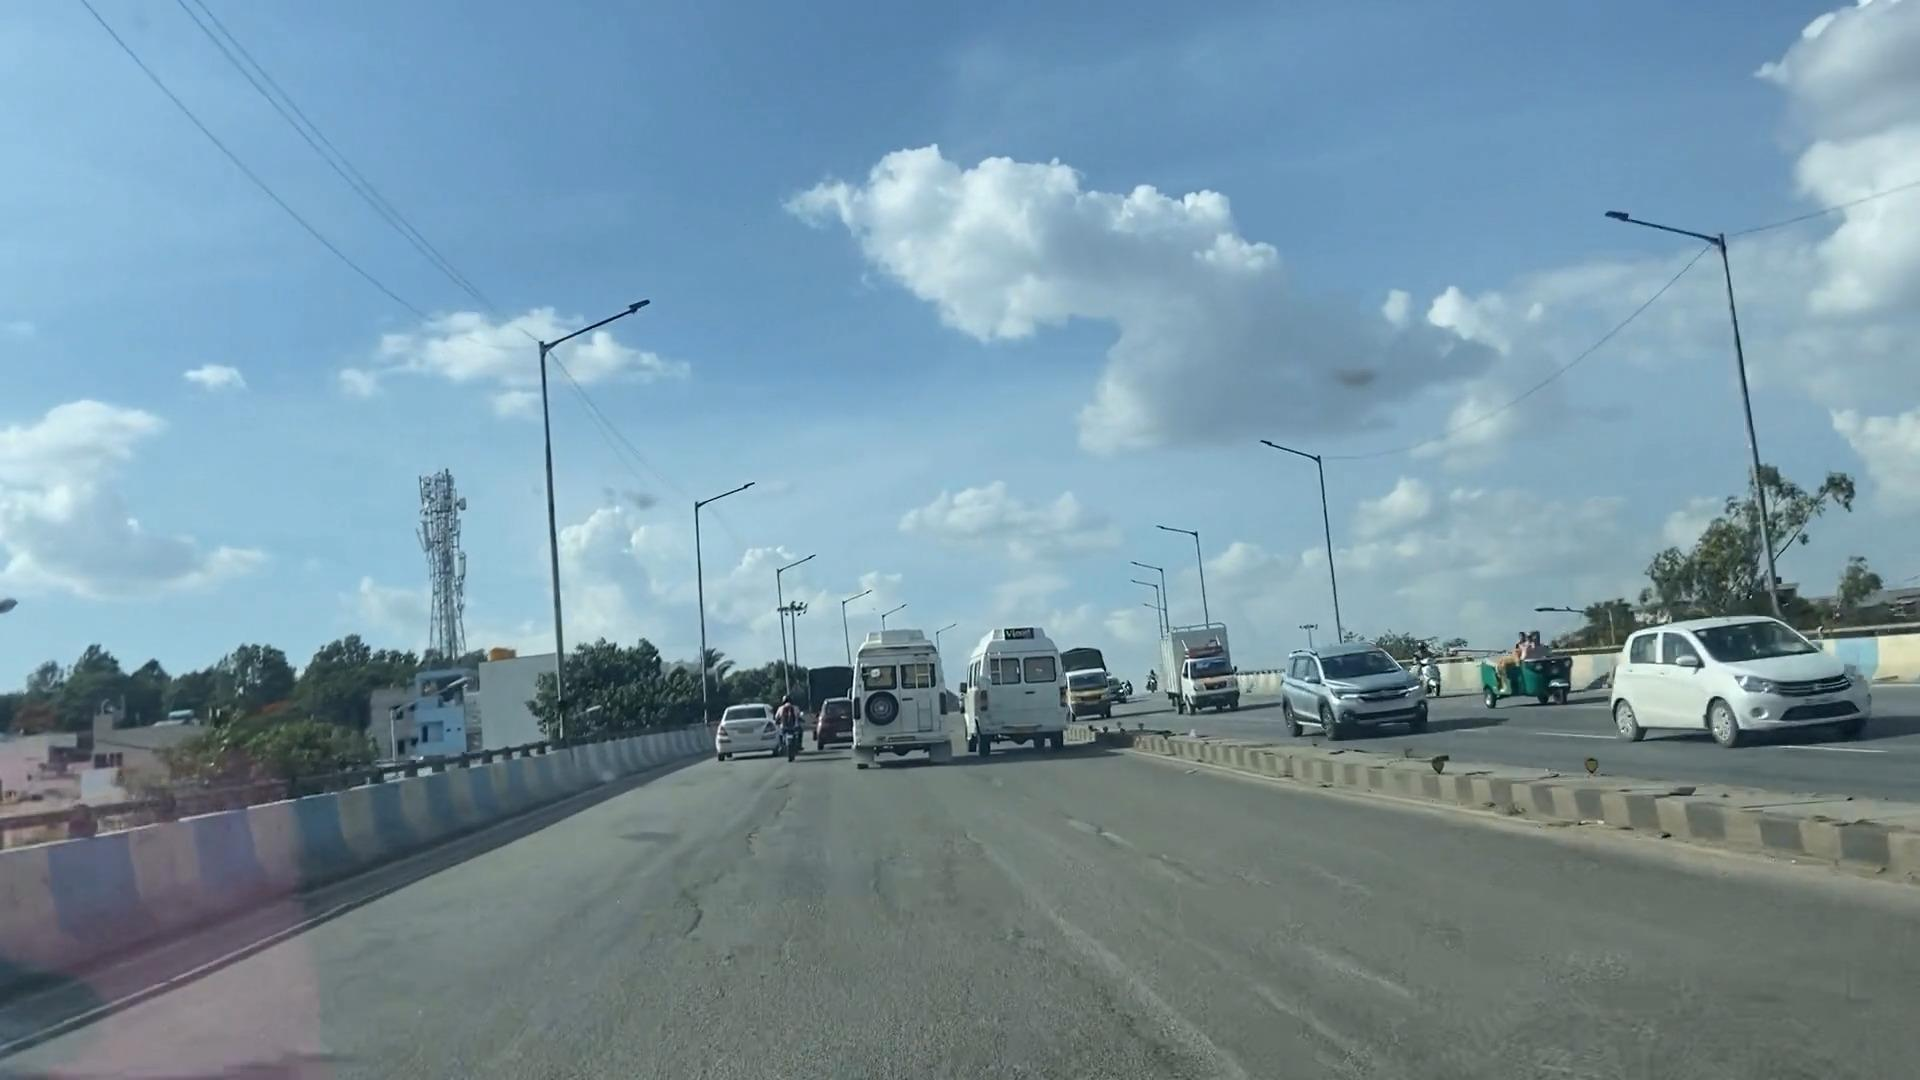HMV: (844, 626, 973, 779), (964, 622, 1063, 752)
RoadDamages: (616, 824, 1420, 1080)
